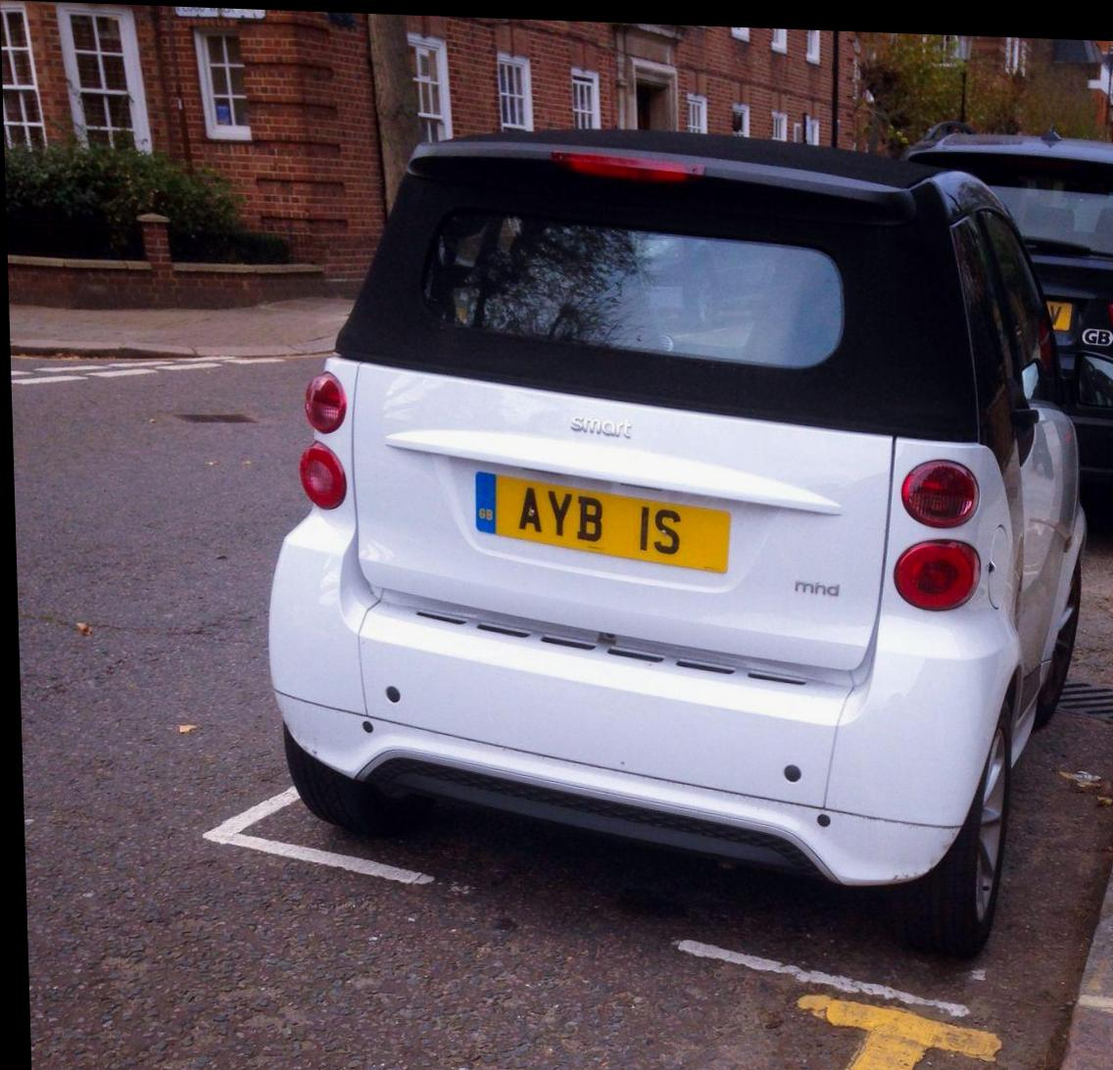License_Plate: (460, 457, 747, 595)
